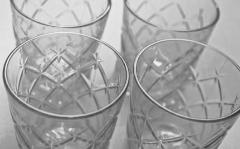glass: (4, 32, 128, 148)
